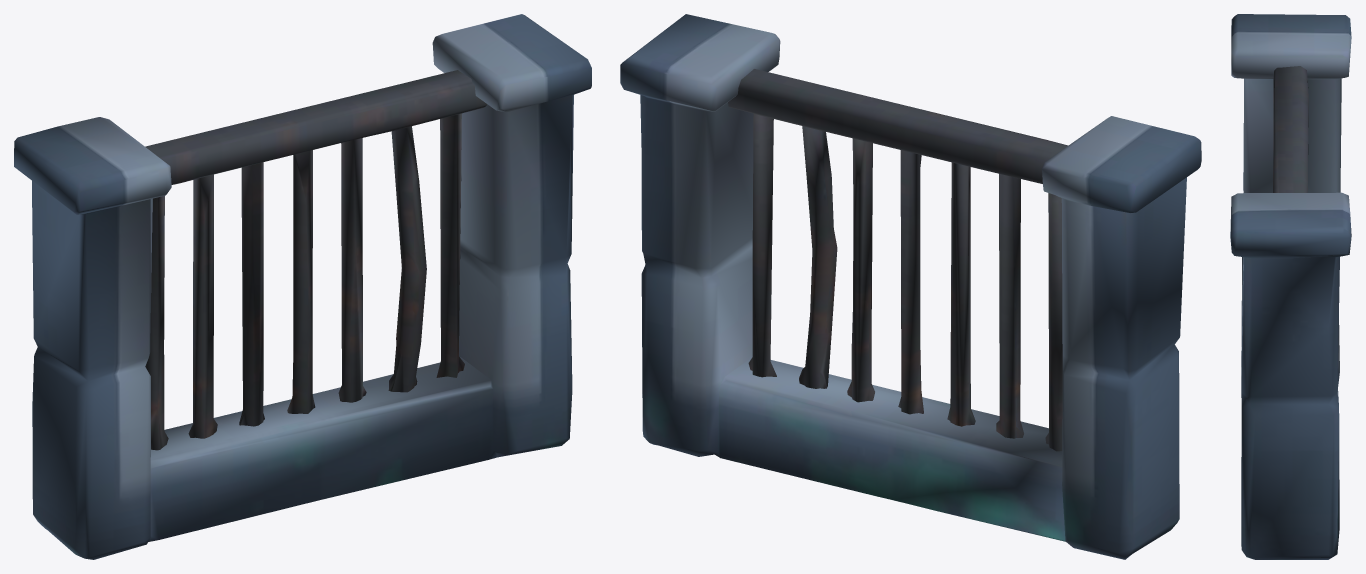
File: cell-bars.glb
3 views of the same model, side by side, from view 1: azimuth 30°, elevation 25°; view 2: azimuth 150°, elevation 25°; view 3: azimuth 270°, elevation 25° (orthographic). The views are drawn at different scales.
Visible parts, largest first — view 1: stone; view 2: stone; view 3: stone.
Boxes of the visible parts, x1,y1,x2,y2 form: stone: (14, 14, 591, 559); stone: (620, 14, 1201, 559); stone: (1230, 14, 1351, 559).
Size of the model in its own units: 2.09 by 1.51 by 0.488.
1 material, 1 textured.
